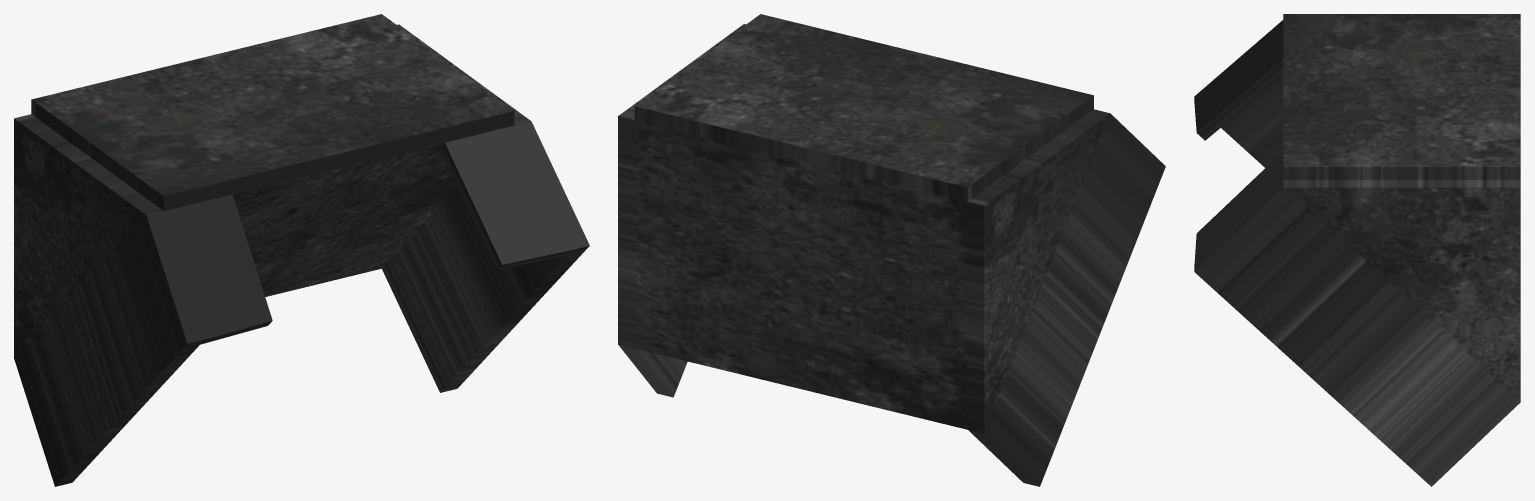
The model's file is plate_case.obj.
3 views of the same model, side by side, from view 1: azimuth 30°, elevation 25°; view 2: azimuth 150°, elevation 25°; view 3: azimuth 270°, elevation 25° (orthographic). The views are drawn at different scales.
Visible parts, largest first — view 1: plate_case_Cube; view 2: plate_case_Cube; view 3: plate_case_Cube.
Boxes of the visible parts, x1,y1,x2,y2 form: plate_case_Cube: (14,14,589,486); plate_case_Cube: (618,14,1165,486); plate_case_Cube: (1194,14,1520,486).
Bounding box in the file's own units: 0.2315 × 0.1895 × 0.1814.
1 material, 1 textured.
